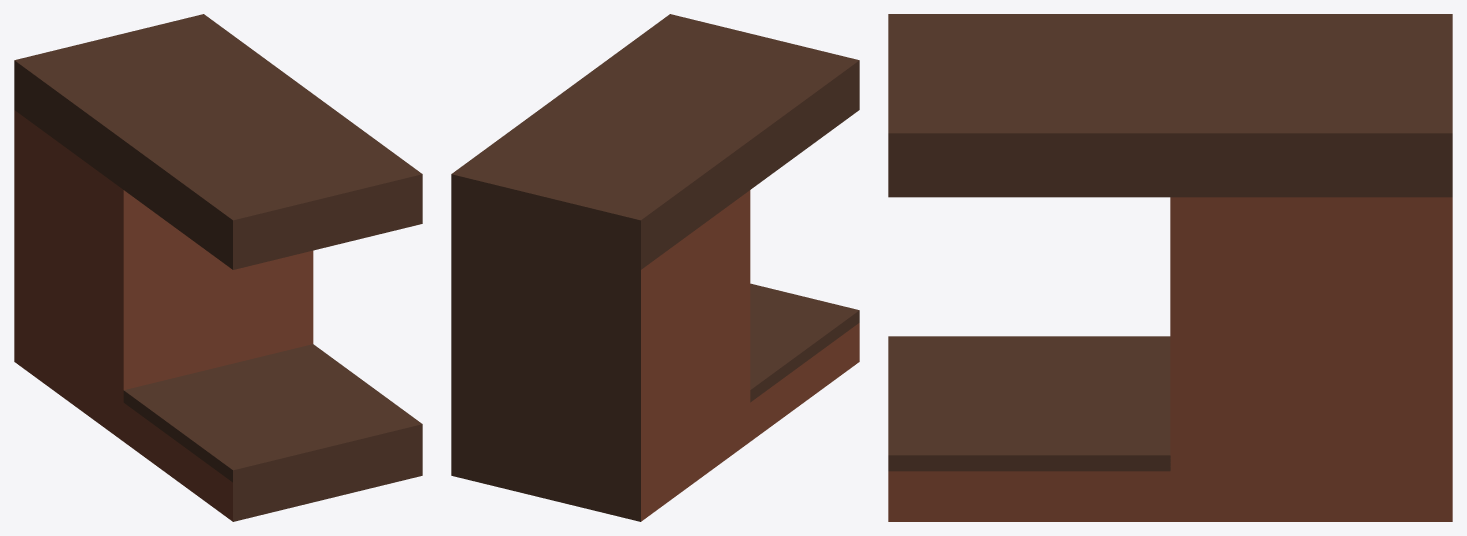
The model's file is BackWall.glb.
3 renders of one model, left to right at view 1: azimuth 30°, elevation 25°; view 2: azimuth 150°, elevation 25°; view 3: azimuth 270°, elevation 25°, orthographic. The views are drawn at different scales.
Visible parts, largest first — view 1: Cube.026; view 2: Cube.026; view 3: Cube.026.
Part boxes in pixels (x1,y1,x2,y2): Cube.026: (14,14,422,521); Cube.026: (451,14,859,521); Cube.026: (888,14,1452,521).
Size of the model in its own units: 2 by 3.04 by 4.
